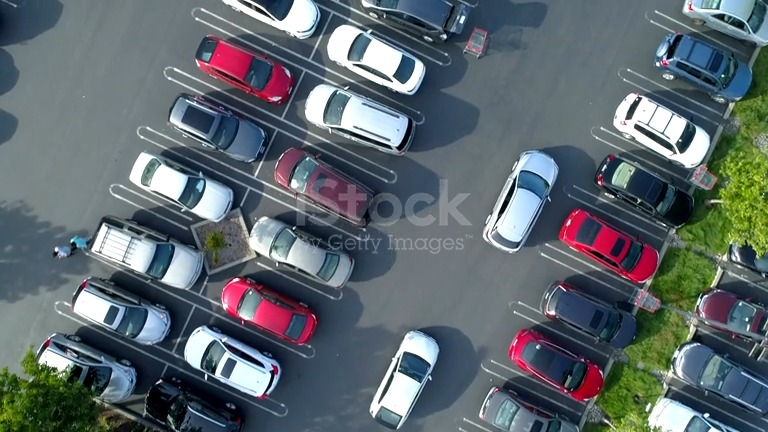car: (305, 84, 418, 155), (275, 148, 373, 227), (484, 150, 558, 252), (250, 216, 354, 288), (129, 151, 233, 221), (594, 154, 693, 227), (613, 94, 710, 168), (559, 210, 658, 282), (369, 330, 439, 429), (185, 325, 281, 397), (168, 93, 268, 162), (36, 333, 136, 402), (509, 328, 603, 401), (327, 24, 425, 94), (70, 277, 170, 345), (653, 34, 751, 103), (195, 35, 293, 103), (222, 276, 316, 344), (542, 281, 636, 348), (143, 377, 241, 431), (359, 0, 469, 42), (479, 387, 578, 431)
